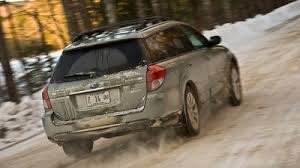car: (40, 18, 245, 152)
